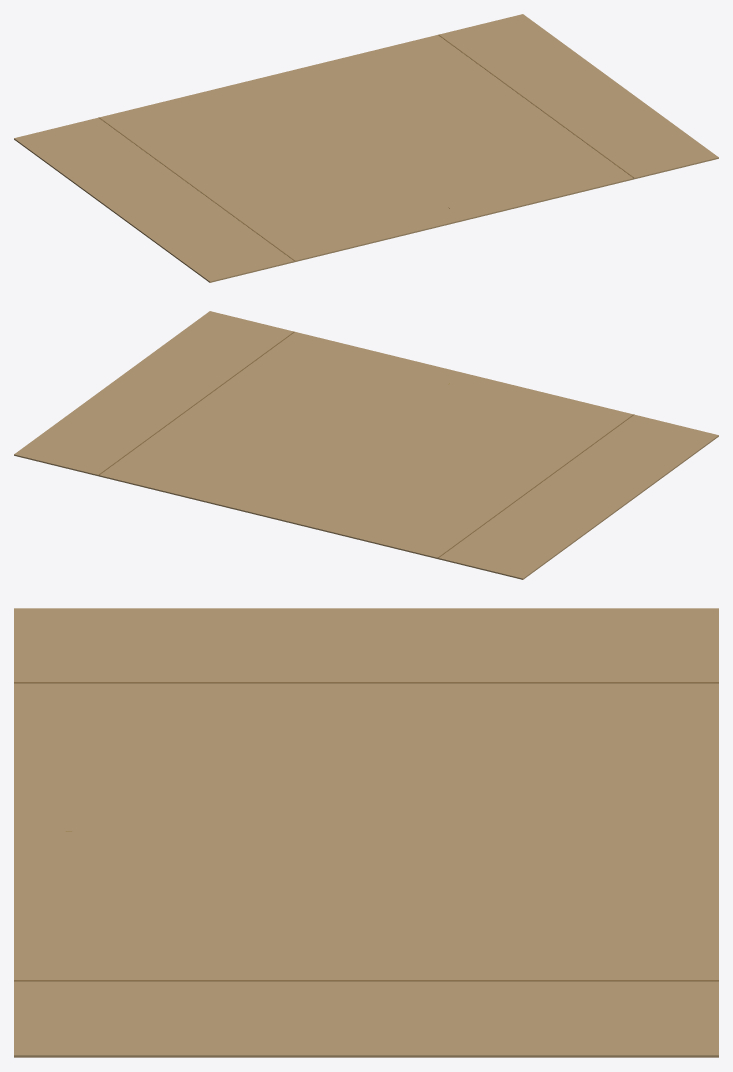
File: paper.glb
The picture shows the model from 3 angles, top to bottom: view 1: azimuth 30°, elevation 25°; view 2: azimuth 150°, elevation 25°; view 3: azimuth 270°, elevation 25°; orthographic projection. The views are drawn at different scales.
Visible parts, largest first — view 1: DieCutSideSeamBlank; view 2: DieCutSideSeamBlank; view 3: DieCutSideSeamBlank, Crease-0.16, Crease0.16.
Boxes of the visible parts, bbox=[...] form: DieCutSideSeamBlank: bbox=[14, 14, 718, 282]; DieCutSideSeamBlank: bbox=[14, 311, 718, 579]; DieCutSideSeamBlank: bbox=[14, 608, 718, 1057]; Crease-0.16: bbox=[14, 682, 718, 683]; Crease0.16: bbox=[14, 980, 718, 981].
Size of the model in its own units: 0.48 by 0.00151 by 0.32.
